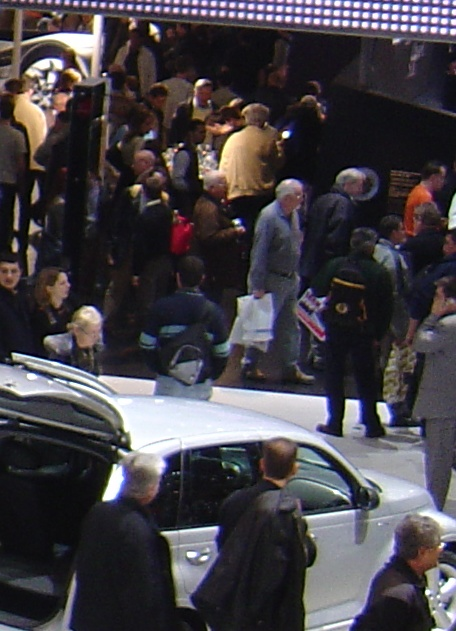person: (320, 228, 390, 436), (245, 178, 310, 384)
